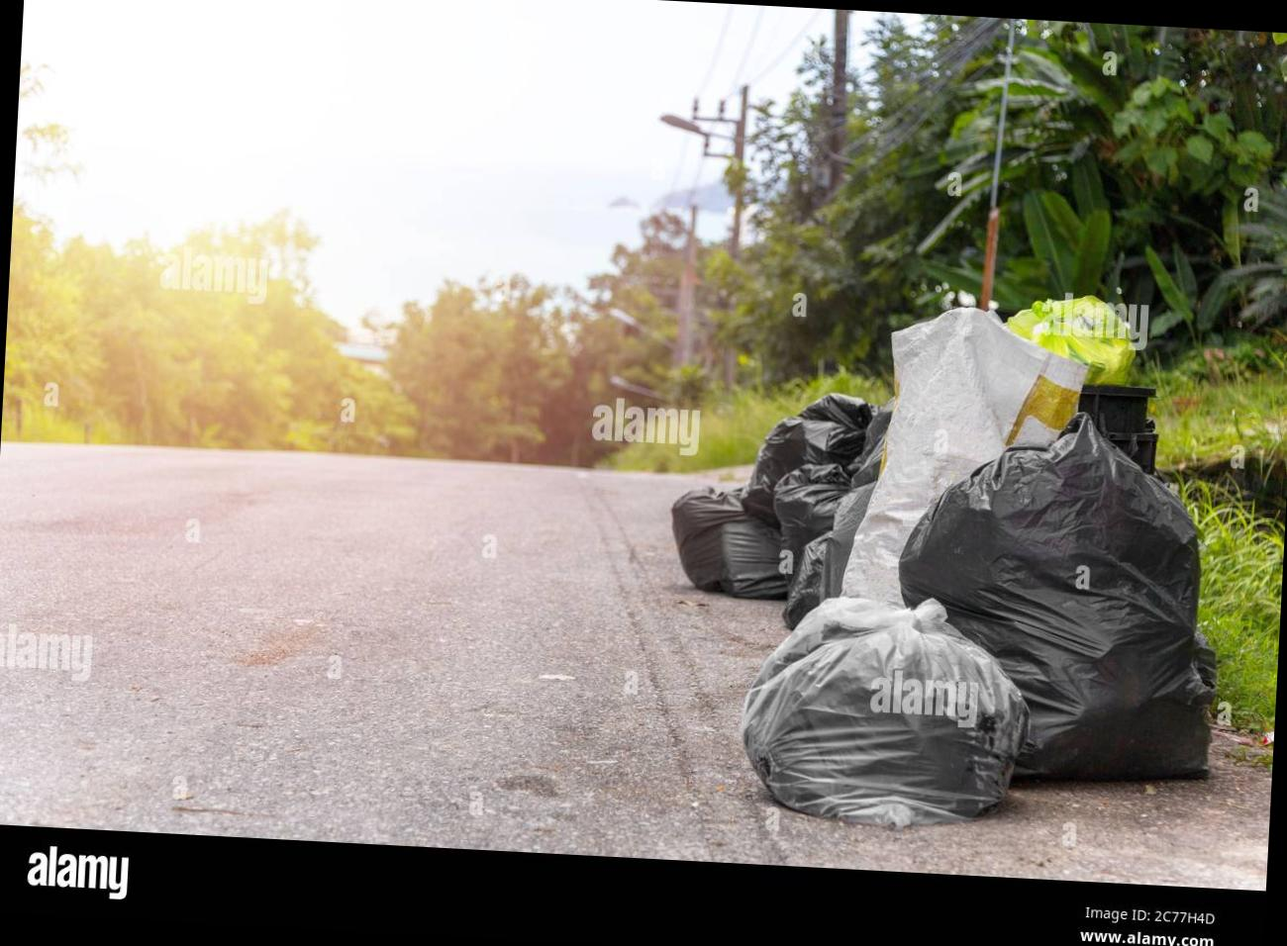road: (0, 442, 1272, 889)
sky: (14, 0, 834, 326)
trash: (900, 415, 1215, 779), (841, 309, 1087, 603), (743, 596, 1029, 827), (740, 394, 875, 524), (671, 490, 747, 591), (773, 463, 850, 560), (821, 482, 873, 599), (721, 519, 789, 599), (782, 532, 830, 628)
